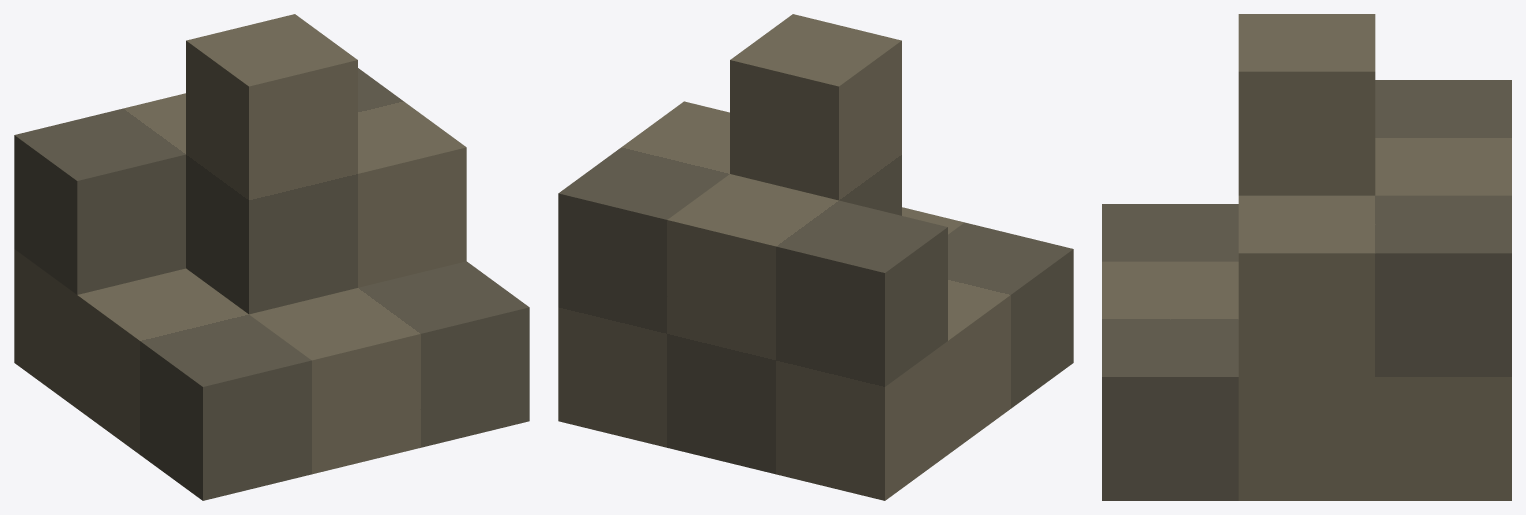
File: dogpoo.obj
3 views of the same model, side by side, from view 1: azimuth 30°, elevation 25°; view 2: azimuth 150°, elevation 25°; view 3: azimuth 270°, elevation 25° (orthographic). The views are drawn at different scales.
Parts seen in each view (by area): view 1: PlumpStandardMushroom_20; view 2: PlumpStandardMushroom_20; view 3: PlumpStandardMushroom_20.
Boxes of the visible parts, bbox=[...] form: PlumpStandardMushroom_20: bbox=[14, 14, 529, 500]; PlumpStandardMushroom_20: bbox=[558, 14, 1073, 500]; PlumpStandardMushroom_20: bbox=[1102, 14, 1511, 500].
Bounding box in the file's own units: 3 × 3 × 3.
Materials: 1 (1 with a texture image).
